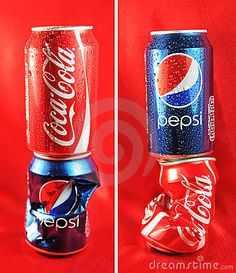pepsi: (154, 49, 202, 108), (154, 50, 202, 108)
